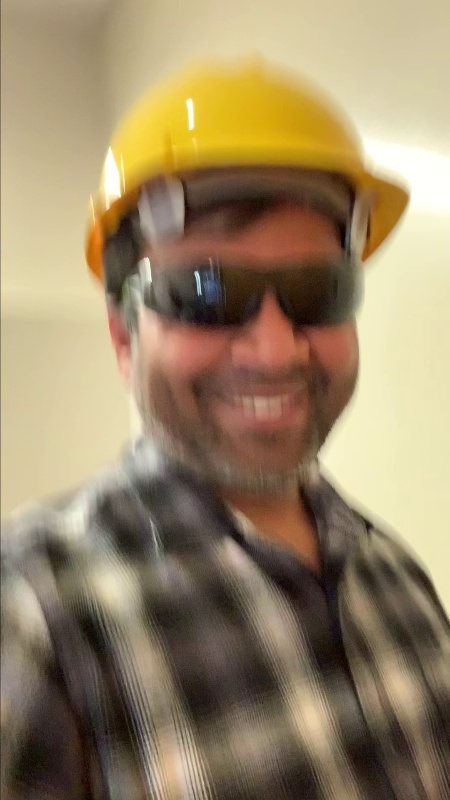glasses: (144, 254, 366, 326)
helmet: (87, 50, 395, 179)
